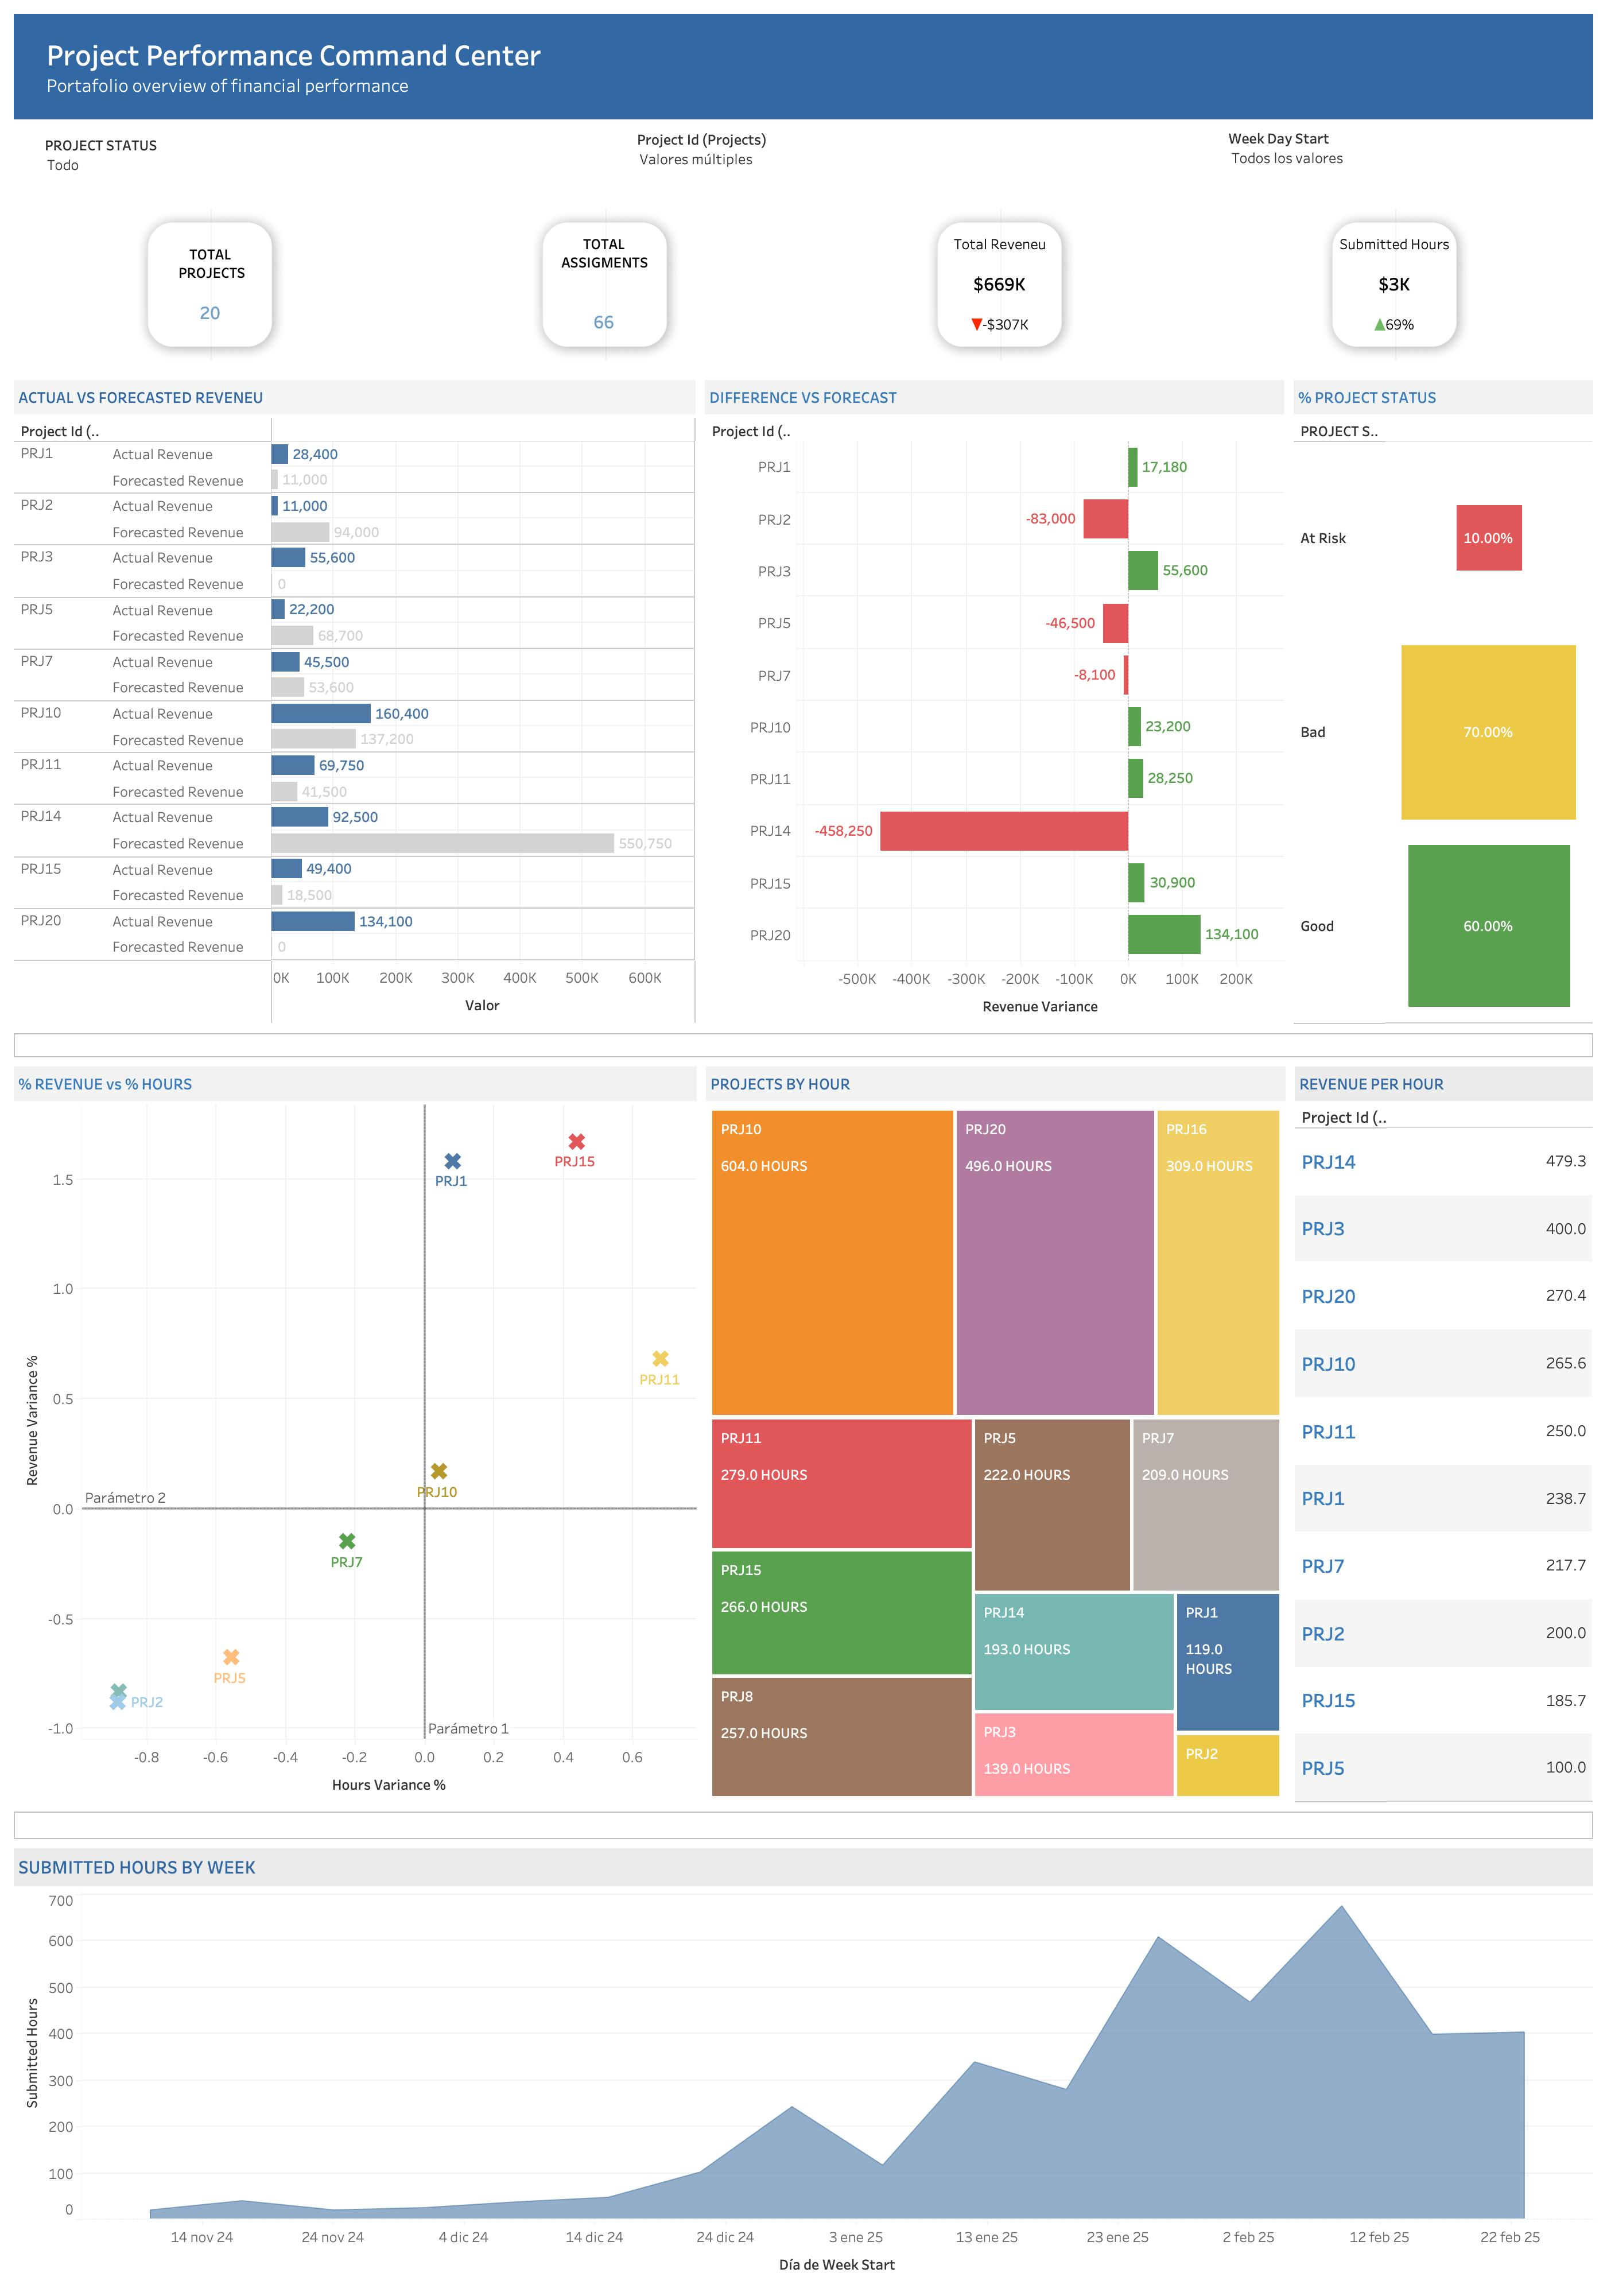

This screenshot's page, from the dashboard's own definition file:
{"tool":"tableau","page":{"name":"Dashboard 1","canvas":[1400,2000],"ordinal":0},"visuals":[{"type":"title","box":[8,8,1384,100]},{"type":"filter","title":"Submitted hours Week","param":"[federated.1a2ifdh19k9ncg10u96fc18p5zfv].[tdy:WEEK_START:qk]","box":[1070,111,312,61]},{"type":"filter","title":"ACTUAL vs FORE","param":"[federated.1a2ifdh19k9ncg10u96fc18p5zfv].[none:PROJECT_ID (PROJECTS):nk]","box":[555,112,337,60]},{"type":"filter","title":"MATRIX","param":"[federated.1a2ifdh19k9ncg10u96fc18p5zfv].[none:Calculation_0371046967119897:nk]","box":[39,117,295,58]},{"type":"worksheet","title":"KPIS","mark":"Shape","cols":["Calculation_0371046939774989","Calculation_0371046948188175","Calculation_0371046936510468","Calculation_0371046936551430"],"box":[8,178,1384,149.4]},{"type":"worksheet","title":"Actual and Forecast","mark":"Automatic","rows":["PROJECT_ID (PROJECTS)"],"box":[8,327.4,602,569]},{"type":"worksheet","title":"ACTUAL vs FORE","mark":"Bar","rows":["PROJECT_ID (PROJECTS)"],"cols":["Calculation_6746633765482496"],"box":[610,327.4,513,569]},{"type":"worksheet","title":"MATRIX","mark":"Automatic","rows":["Calculation_0371046967119897"],"box":[1123,327.4,269.1,569]},{"type":"blank","box":[8,896.4,1384,28.6]},{"type":"worksheet","title":"DISTRIBUTION","mark":"Automatic","rows":["Calculation_0371046957207569"],"cols":["Calculation_0371046957486098"],"box":[8,925,603,648.9]},{"type":"worksheet","title":"HEAT MAP Hours","mark":"Automatic","box":[611,925,513,648.9]},{"type":"worksheet","title":"EFFICIENCY","mark":"Automatic","rows":["PROJECT_ID (PROJECTS)"],"box":[1124,925,268,648.9]},{"type":"blank","box":[8,1573.9,1384,32]},{"type":"worksheet","title":"Submitted hours Week","mark":"Area","rows":["SUBMITTED_HOURS (TIMECARDS)"],"cols":["WEEK_START"],"box":[8,1605.9,1384,386.1]}]}

Visuals, with their boxes in screenshot pixels (x1, y1, x2, y2), scaled from the page's 1400x2000 canvas onto the 1607x2296 screenshot:
title: l=9, t=9, r=1598, b=124
"Submitted hours Week" filter: l=1228, t=127, r=1586, b=197
"ACTUAL vs FORE" filter: l=637, t=129, r=1024, b=197
"MATRIX" filter: l=45, t=134, r=383, b=201
"KPIS" worksheet (Shape marks): l=9, t=204, r=1598, b=376
"Actual and Forecast" worksheet: l=9, t=376, r=700, b=1029
"ACTUAL vs FORE" worksheet (Bar marks): l=700, t=376, r=1289, b=1029
"MATRIX" worksheet: l=1289, t=376, r=1598, b=1029
blank: l=9, t=1029, r=1598, b=1062
"DISTRIBUTION" worksheet: l=9, t=1062, r=701, b=1807
"HEAT MAP Hours" worksheet: l=701, t=1062, r=1290, b=1807
"EFFICIENCY" worksheet: l=1290, t=1062, r=1598, b=1807
blank: l=9, t=1807, r=1598, b=1844
"Submitted hours Week" worksheet (Area marks): l=9, t=1844, r=1598, b=2287
